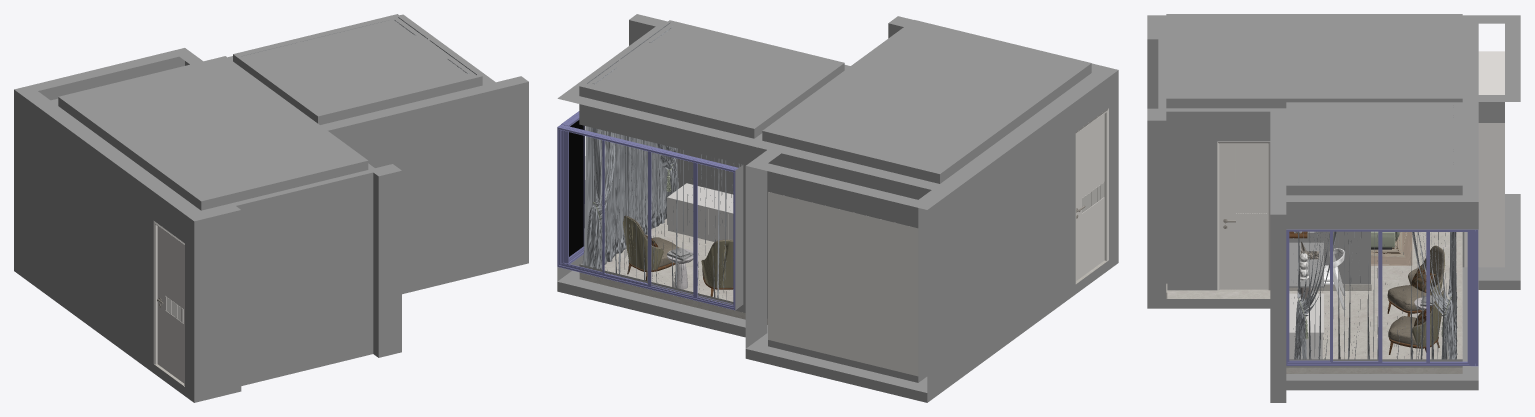
File: master.glb
3 views of the same model, side by side, from view 1: azimuth 30°, elevation 25°; view 2: azimuth 150°, elevation 25°; view 3: azimuth 270°, elevation 25° (orthographic). The views are drawn at different scales.
Visible parts, largest first — view 1: Books_296_006_1, Component_3_1; view 2: Books_296_006_1, Component_10_1, Group8, Group42, Component_3_1, Group55, G_3DGeom_3_2, Group43, G_3DGeom_1_2; view 3: Books_296_006_1, Component_3_1, Group8, Component_10_1, Group42, G_3DGeom_1_2, Group55, ChenZc_29316, G_3DGeom_3_2, Group316, G_3DGeom_2, Obj3d66_564950_15_190_Defintion_1_1 (+1 smaller).
Boxes of the visible parts, x1,y1,x2,y2 form: Books_296_006_1: (14, 14, 528, 402); Component_3_1: (153, 221, 184, 385); Books_296_006_1: (557, 14, 1118, 402); Component_10_1: (768, 192, 918, 376); Group8: (582, 22, 742, 299); Group42: (557, 111, 738, 310); Component_3_1: (1075, 108, 1108, 283); Group55: (667, 183, 733, 241); G_3DGeom_3_2: (623, 216, 733, 287); Group43: (569, 120, 585, 256); G_3DGeom_1_2: (624, 215, 733, 278); Books_296_006_1: (1147, 14, 1520, 402); Component_3_1: (1217, 141, 1270, 290); Group8: (1293, 231, 1457, 359); Component_10_1: (1464, 51, 1504, 267); Group42: (1286, 229, 1478, 366); G_3DGeom_1_2: (1387, 245, 1444, 344); Group55: (1289, 231, 1323, 359); ChenZc_29316: (1371, 232, 1412, 265); G_3DGeom_3_2: (1408, 247, 1444, 346); Group316: (1311, 248, 1345, 309); G_3DGeom_2: (1298, 231, 1451, 339); Obj3d66_564950_15_190_Defintion_1_1: (1410, 266, 1435, 326).
Size of the model in its own units: 6.8 by 3.16 by 5.38.
56 materials, 21 textured.
